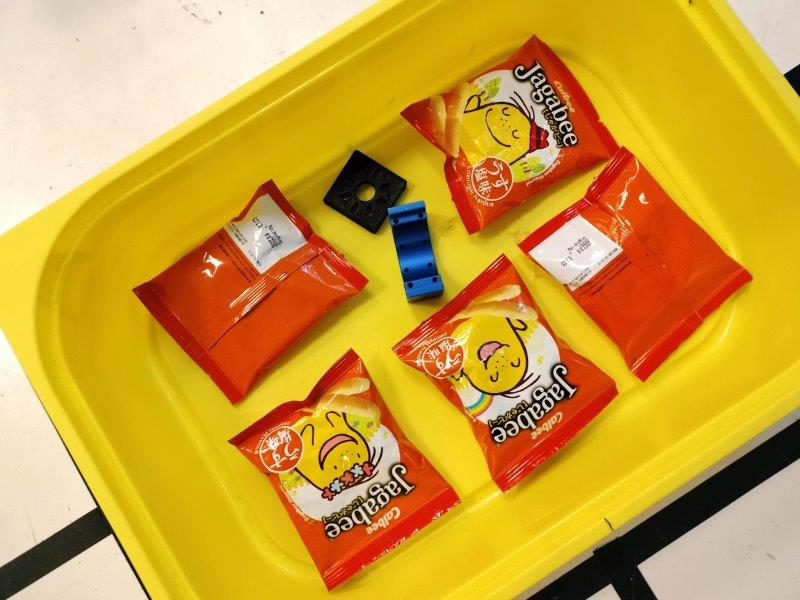Jagabee: (228, 348, 462, 592), (518, 146, 751, 381), (391, 253, 619, 493), (131, 180, 370, 407), (399, 34, 621, 234)
